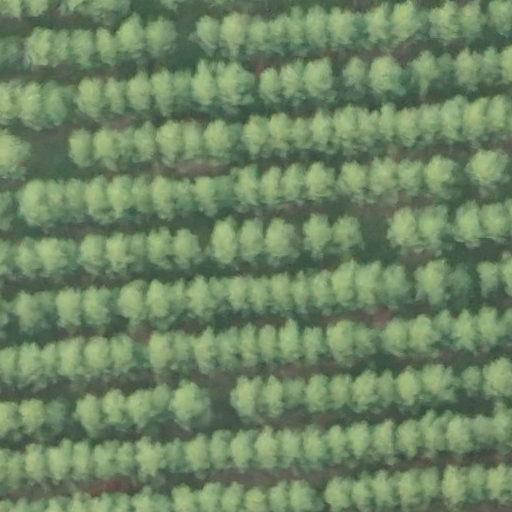eucalipto: (168, 381, 213, 430), (215, 61, 255, 114), (374, 262, 414, 312), (465, 145, 508, 189), (386, 1, 425, 48), (145, 279, 181, 329), (413, 257, 449, 307), (301, 54, 336, 105), (226, 373, 262, 422), (368, 52, 408, 96), (365, 154, 400, 204), (419, 362, 458, 405), (187, 61, 218, 114), (326, 3, 360, 51), (427, 1, 461, 48), (424, 154, 458, 201), (16, 78, 45, 133), (409, 50, 442, 98), (418, 204, 451, 252), (115, 279, 148, 327), (450, 308, 483, 356), (18, 175, 47, 229), (69, 391, 102, 438), (407, 315, 442, 359), (73, 75, 104, 124), (41, 79, 70, 131), (390, 365, 425, 408), (300, 421, 330, 471), (479, 306, 510, 354), (195, 322, 222, 377), (481, 198, 512, 245), (328, 260, 356, 312), (379, 315, 411, 360), (109, 331, 139, 379), (145, 16, 179, 58), (190, 11, 221, 57), (325, 319, 356, 365), (337, 155, 366, 204), (13, 286, 42, 335), (256, 375, 286, 422), (304, 160, 336, 204), (332, 214, 367, 254), (266, 216, 298, 259), (301, 212, 332, 256), (82, 284, 113, 328), (394, 415, 425, 459), (115, 13, 144, 60), (453, 202, 482, 249), (385, 206, 417, 248), (219, 12, 248, 58), (208, 219, 237, 265), (54, 285, 83, 331), (202, 117, 233, 160), (145, 331, 176, 374), (363, 1, 391, 48), (192, 172, 220, 219), (352, 370, 381, 415), (103, 230, 131, 276), (125, 73, 154, 117), (453, 48, 482, 92), (77, 231, 106, 275), (483, 355, 512, 399), (332, 103, 357, 154), (37, 237, 68, 278), (234, 164, 261, 211), (231, 426, 259, 471), (217, 322, 241, 374), (240, 113, 269, 156), (302, 373, 330, 417), (254, 426, 282, 470), (151, 174, 176, 223), (288, 270, 314, 317), (82, 335, 111, 377), (101, 390, 128, 435), (106, 173, 134, 216), (18, 395, 46, 438), (446, 411, 474, 454), (395, 102, 419, 152), (268, 270, 293, 318), (156, 118, 182, 164), (185, 275, 211, 321), (459, 2, 488, 43), (172, 229, 204, 266), (64, 177, 88, 226), (325, 370, 353, 412), (147, 226, 173, 271), (89, 172, 110, 227), (239, 217, 264, 263), (371, 419, 396, 465), (69, 28, 95, 72), (486, 94, 512, 138), (57, 335, 83, 379), (69, 126, 94, 171), (398, 154, 424, 197), (222, 274, 248, 317), (44, 180, 68, 226), (244, 273, 269, 317), (286, 3, 308, 52), (461, 99, 487, 140), (305, 4, 327, 52), (133, 119, 157, 163), (18, 341, 42, 385), (276, 321, 301, 363), (326, 421, 349, 466), (418, 102, 440, 149), (238, 322, 260, 369), (257, 65, 282, 106), (346, 419, 371, 460), (281, 163, 305, 205), (302, 324, 326, 366), (103, 76, 126, 119), (256, 322, 279, 365), (135, 171, 154, 222), (439, 100, 461, 144), (180, 117, 202, 161), (91, 127, 121, 159), (470, 411, 494, 451), (95, 24, 117, 67), (261, 164, 282, 207), (354, 322, 378, 359), (282, 426, 302, 470), (40, 339, 61, 378), (269, 111, 293, 145), (380, 104, 398, 143)
